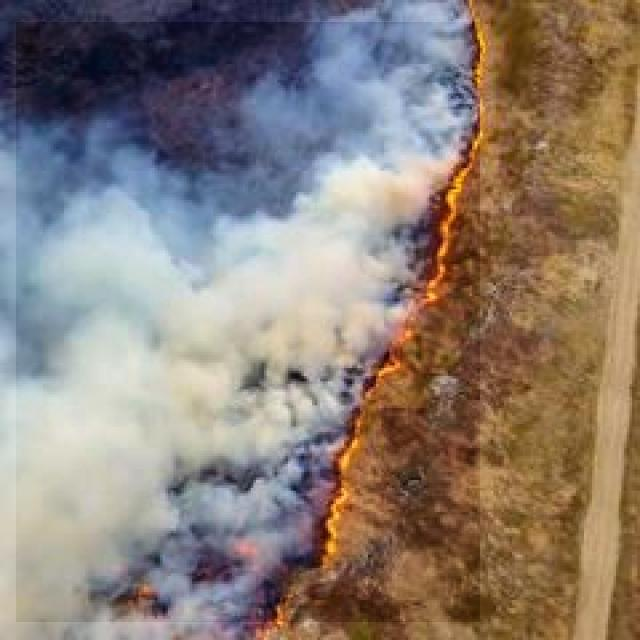Smoke: (16, 22, 480, 622)
